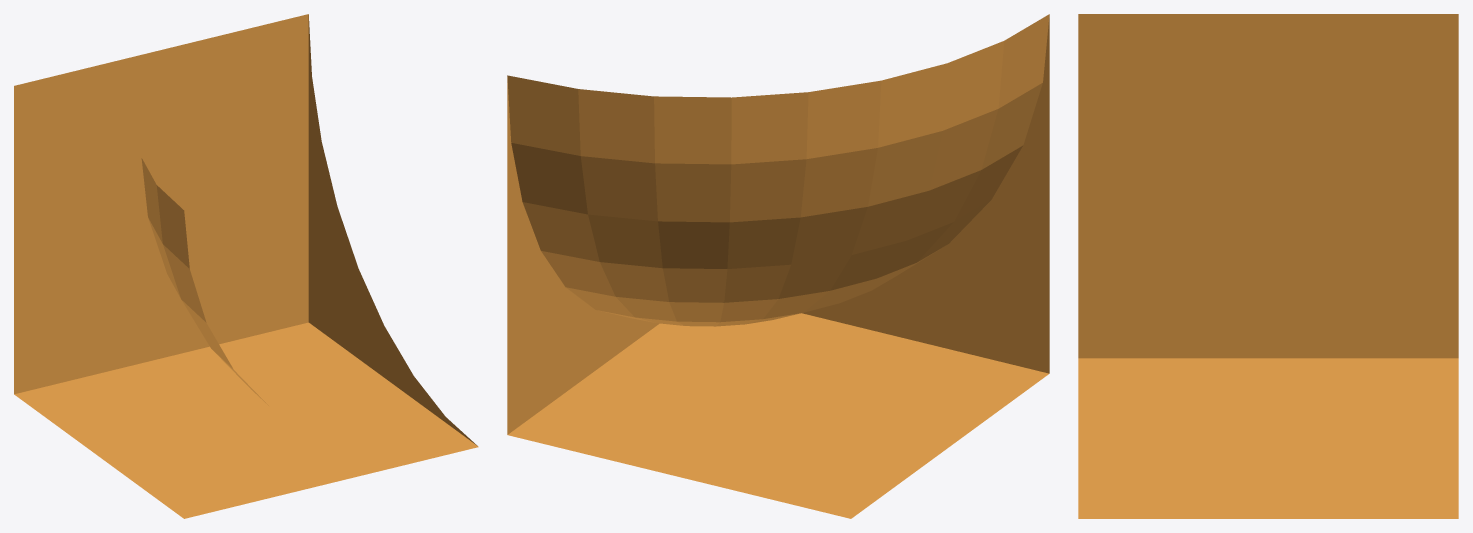
Rendered from r4c2_border_light_grey.gltf.
3 renders of one model, left to right at view 1: azimuth 30°, elevation 25°; view 2: azimuth 150°, elevation 25°; view 3: azimuth 270°, elevation 25°, orthographic. The views are drawn at different scales.
Parts seen in each view (by area): view 1: r4c2_border_orange; view 2: r4c2_border_orange; view 3: r4c2_border_orange.
Boxes of the visible parts, left/top/right/bottom form: r4c2_border_orange: left=14, top=14, right=478, bottom=518; r4c2_border_orange: left=507, top=14, right=1049, bottom=518; r4c2_border_orange: left=1078, top=14, right=1458, bottom=518.
Bounding box in the file's own units: 2.1 × 2.1 × 2.1.
1 material, 1 textured.
